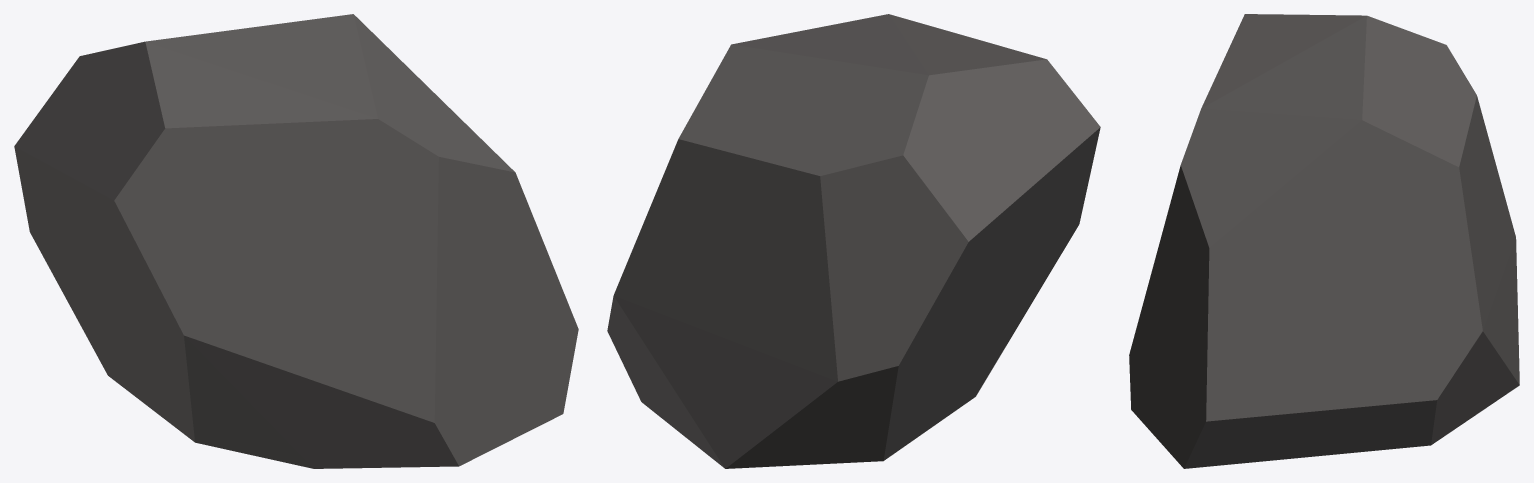
Rendered from RockLarge_01.glb.
3 views of the same model, side by side, from view 1: azimuth 30°, elevation 25°; view 2: azimuth 150°, elevation 25°; view 3: azimuth 270°, elevation 25° (orthographic). The views are drawn at different scales.
Visible parts, largest first — view 1: RockLarge_01; view 2: RockLarge_01; view 3: RockLarge_01.
Boxes of the visible parts, x1=… form: RockLarge_01: x1=14, y1=14, x2=578, y2=468; RockLarge_01: x1=607, y1=14, x2=1100, y2=468; RockLarge_01: x1=1129, y1=14, x2=1519, y2=468.
Size of what is drawn, in the model's own units: 1.98 by 1.58 by 1.74.
1 material, 1 textured.
